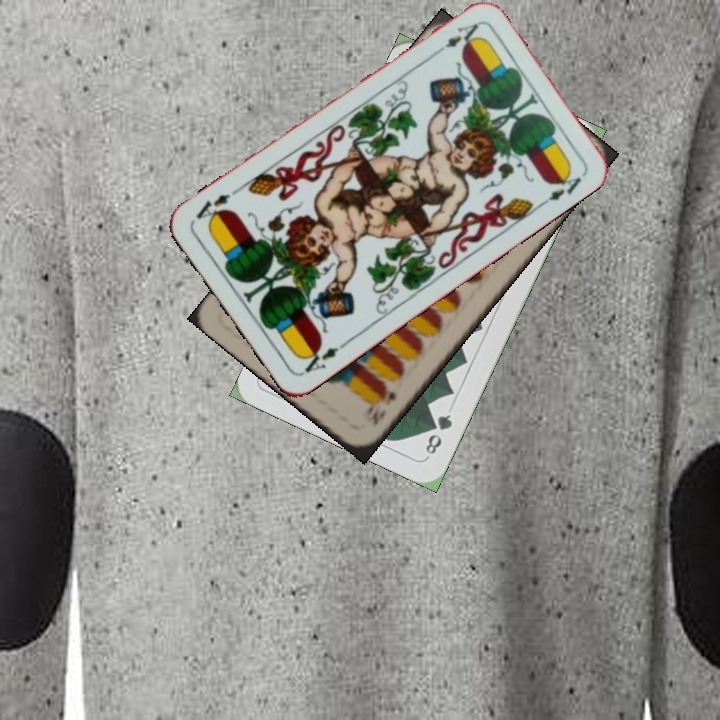E10: (361, 383, 399, 427)
EA: (298, 336, 351, 376), (429, 19, 481, 59)
G8: (421, 410, 455, 457)
